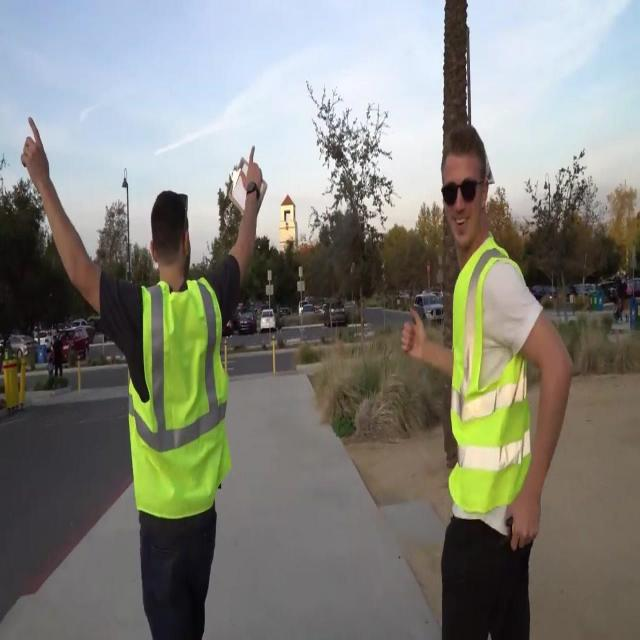Reflective-Jacket: (119, 271, 238, 527), (442, 237, 542, 527)
